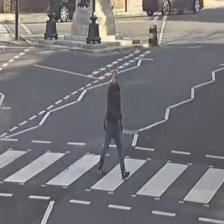person: (96, 69, 130, 180)
